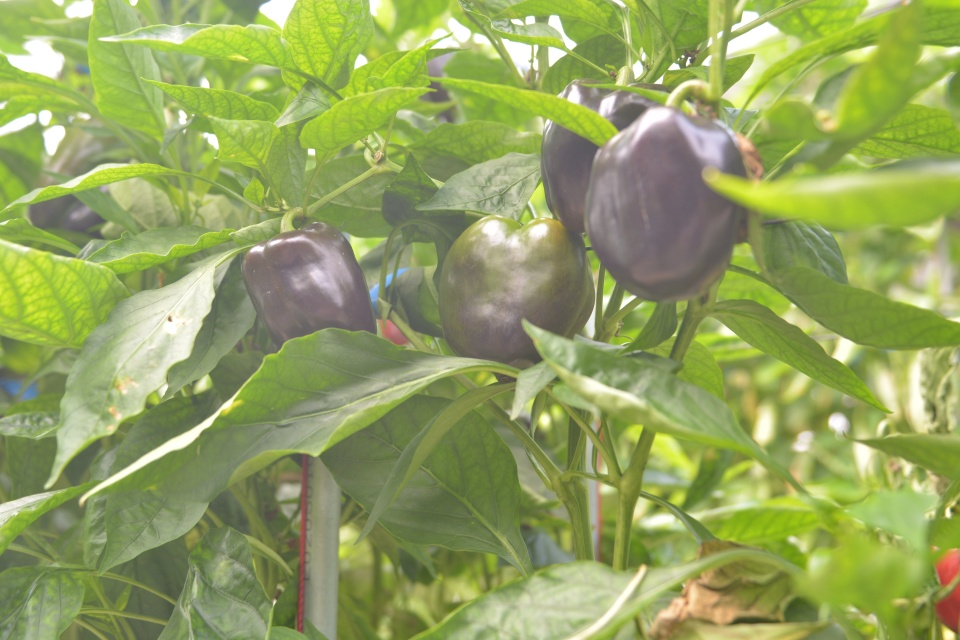fruit: (584, 103, 753, 307), (436, 209, 596, 386), (536, 73, 694, 236), (238, 220, 378, 349), (28, 184, 112, 239), (934, 546, 960, 636)
